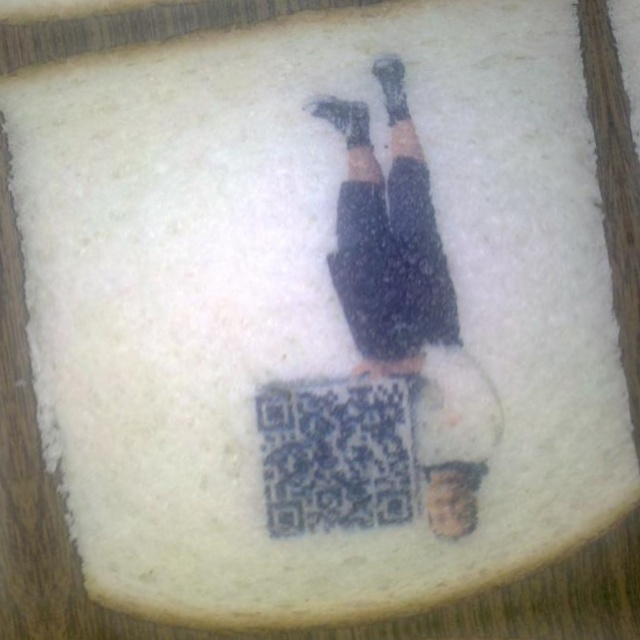qr-code: (246, 371, 425, 548)
